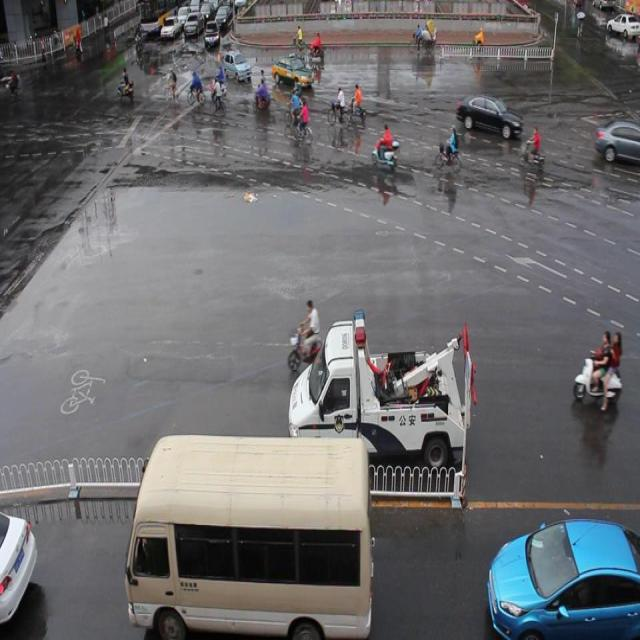bus: (288, 307, 475, 474)
car: (486, 515, 640, 640), (1, 507, 37, 622), (454, 91, 522, 138), (592, 118, 640, 165), (271, 53, 314, 89), (224, 49, 252, 84)
truck: (126, 430, 373, 640)
